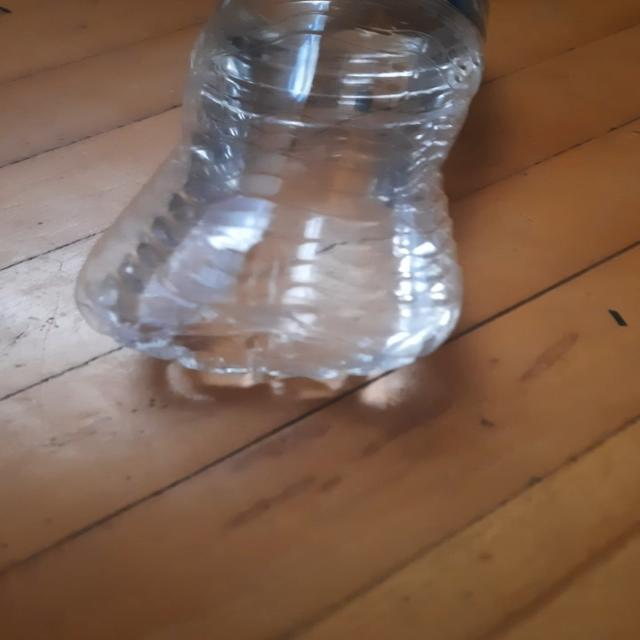Plastic: (72, 0, 488, 398)
